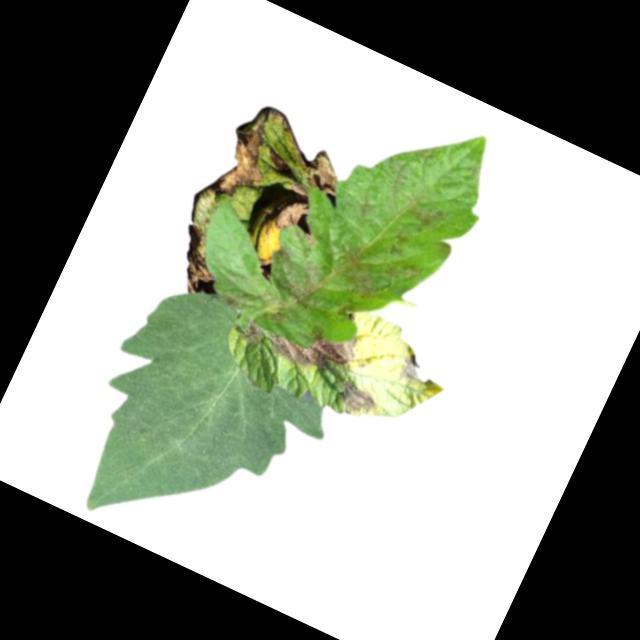Late_blight: (207, 95, 295, 209), (231, 234, 331, 334), (263, 303, 361, 385), (160, 222, 238, 305), (323, 239, 391, 306), (259, 179, 317, 244), (295, 145, 350, 202), (394, 350, 443, 394), (333, 378, 382, 421), (402, 195, 451, 236), (234, 316, 268, 351), (264, 148, 297, 177), (299, 230, 319, 248)
